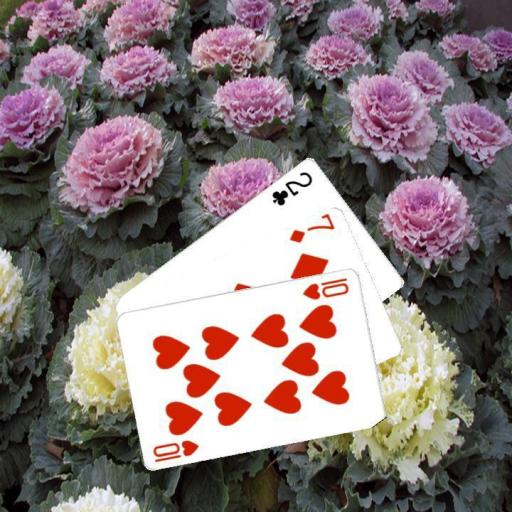card-corner: (268, 168, 314, 207), (286, 212, 336, 245), (150, 436, 201, 464), (300, 274, 350, 301)
